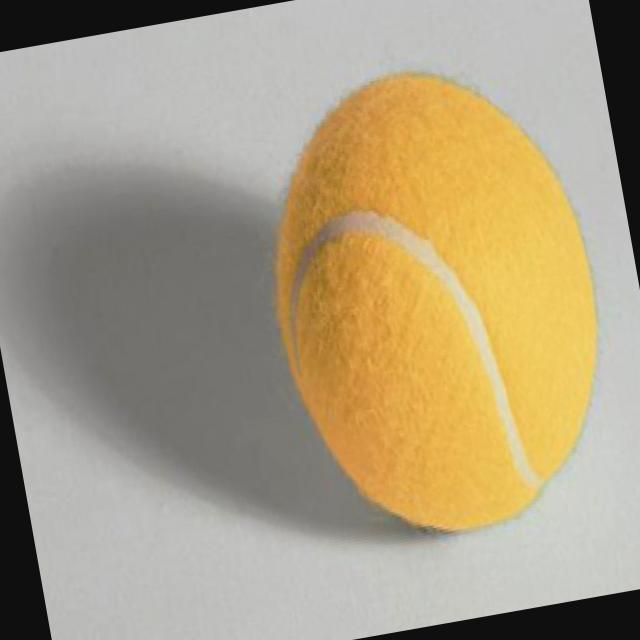Tennis Ball: (273, 73, 601, 536)
